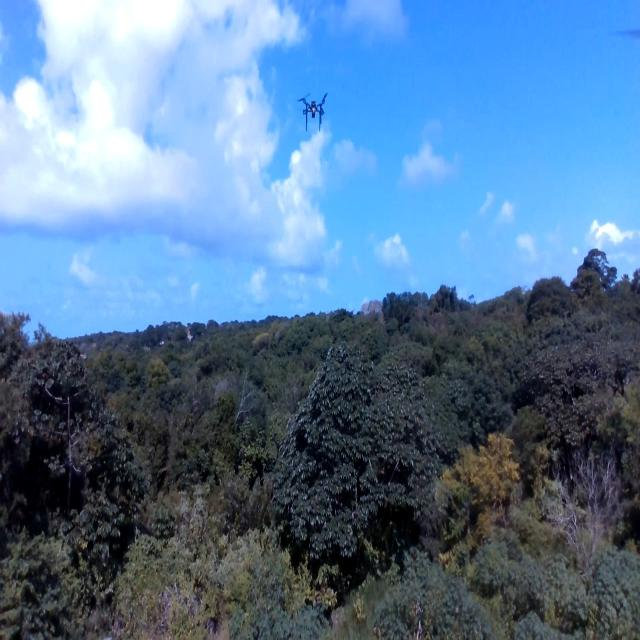-uav-: (295, 83, 340, 151)
